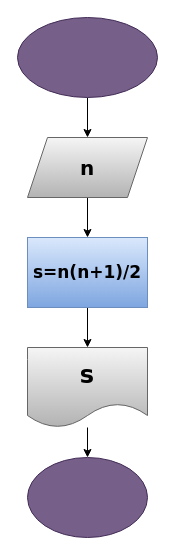
This 175x555 diagram has some shape labels left out. Here are the shapes that lost their labels. From the top down, the centre of each, then its label:
At point (87, 57): "INICIO".
At point (87, 497): "FIN".
